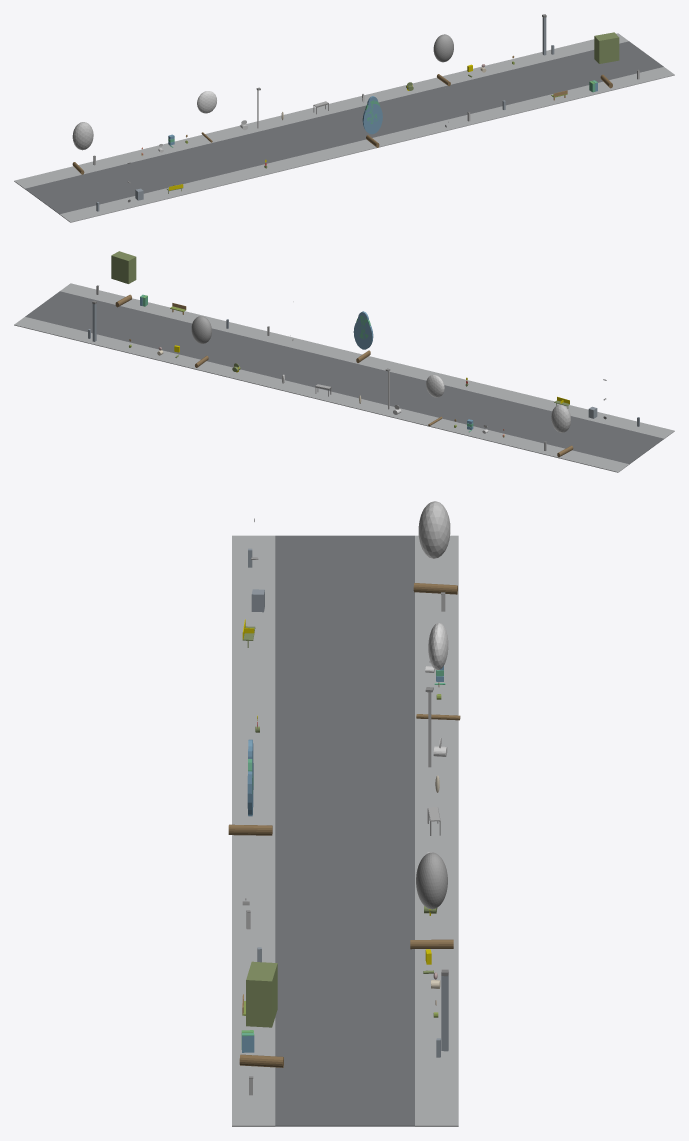
3 views of the same model, one above another, from view 1: azimuth 30°, elevation 25°; view 2: azimuth 150°, elevation 25°; view 3: azimuth 270°, elevation 25° (orthographic). The views are drawn at different scales.
Parts seen in each view (by area): view 1: road_slab, sidewalk_left, sidewalk_right, inst_0016, inst_0014, inst_0012, inst_0015, inst_0013; view 2: road_slab, sidewalk_right, sidewalk_left, inst_0016, inst_0014, inst_0012, inst_0015, inst_0013; view 3: road_slab, sidewalk_left, sidewalk_right, inst_0016, inst_0012, inst_0015, inst_0013, inst_0014.
Part boxes in pixels (x1=…): road_slab: x1=25, y1=41, x2=663, y2=214; sidewalk_left: x1=59, y1=67, x2=674, y2=222; sidewalk_right: x1=14, y1=33, x2=628, y2=188; inst_0016: x1=594, y1=32, x2=619, y2=88; inst_0014: x1=362, y1=96, x2=382, y2=147; inst_0012: x1=72, y1=122, x2=93, y2=174; inst_0015: x1=433, y1=34, x2=453, y2=86; inst_0013: x1=197, y1=91, x2=216, y2=142; road_slab: x1=25, y1=291, x2=663, y2=464; sidewalk_right: x1=14, y1=317, x2=629, y2=472; sidewalk_left: x1=60, y1=283, x2=674, y2=438; inst_0016: x1=111, y1=251, x2=136, y2=307; inst_0014: x1=353, y1=311, x2=373, y2=362; inst_0012: x1=551, y1=404, x2=573, y2=457; inst_0015: x1=191, y1=316, x2=211, y2=367; inst_0013: x1=426, y1=375, x2=444, y2=426; road_slab: x1=275, y1=535, x2=414, y2=1126; sidewalk_left: x1=232, y1=535, x2=275, y2=1126; sidewalk_right: x1=415, y1=535, x2=458, y2=1126; inst_0016: x1=239, y1=961, x2=283, y2=1067; inst_0012: x1=413, y1=501, x2=457, y2=594; inst_0015: x1=410, y1=852, x2=453, y2=949; inst_0013: x1=416, y1=623, x2=460, y2=720; inst_0014: x1=228, y1=739, x2=272, y2=835.
Bounding box in the file's own units: 80 × 6.08 × 13.27.
